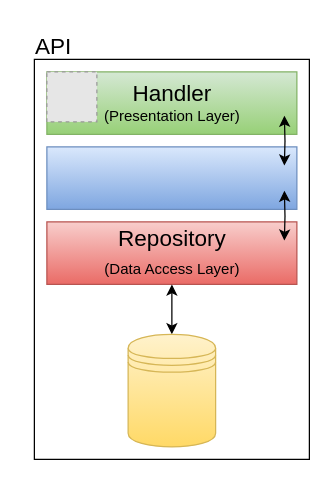
Image size: 331x481. Some labels were removed from this diagram. Grey dashed boxes stand in for pictures. Here are the shapes that lost their labels. From the top down, the box of each, then its label:
(46, 146, 297, 209): Service (Business Logic Layer)
(127, 333, 216, 447): RDBMS
